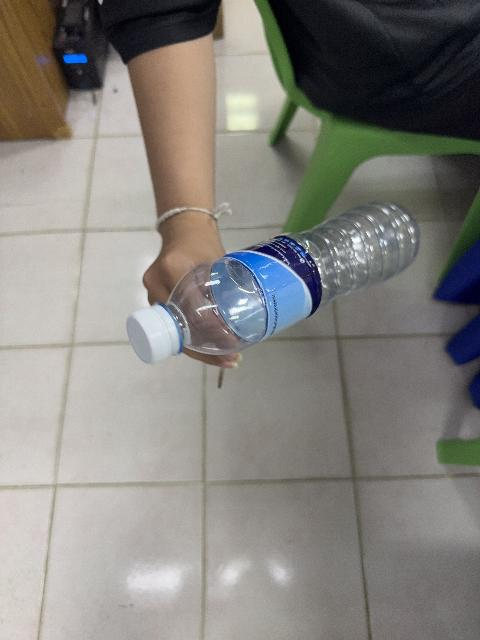bottle: (127, 203, 418, 363)
